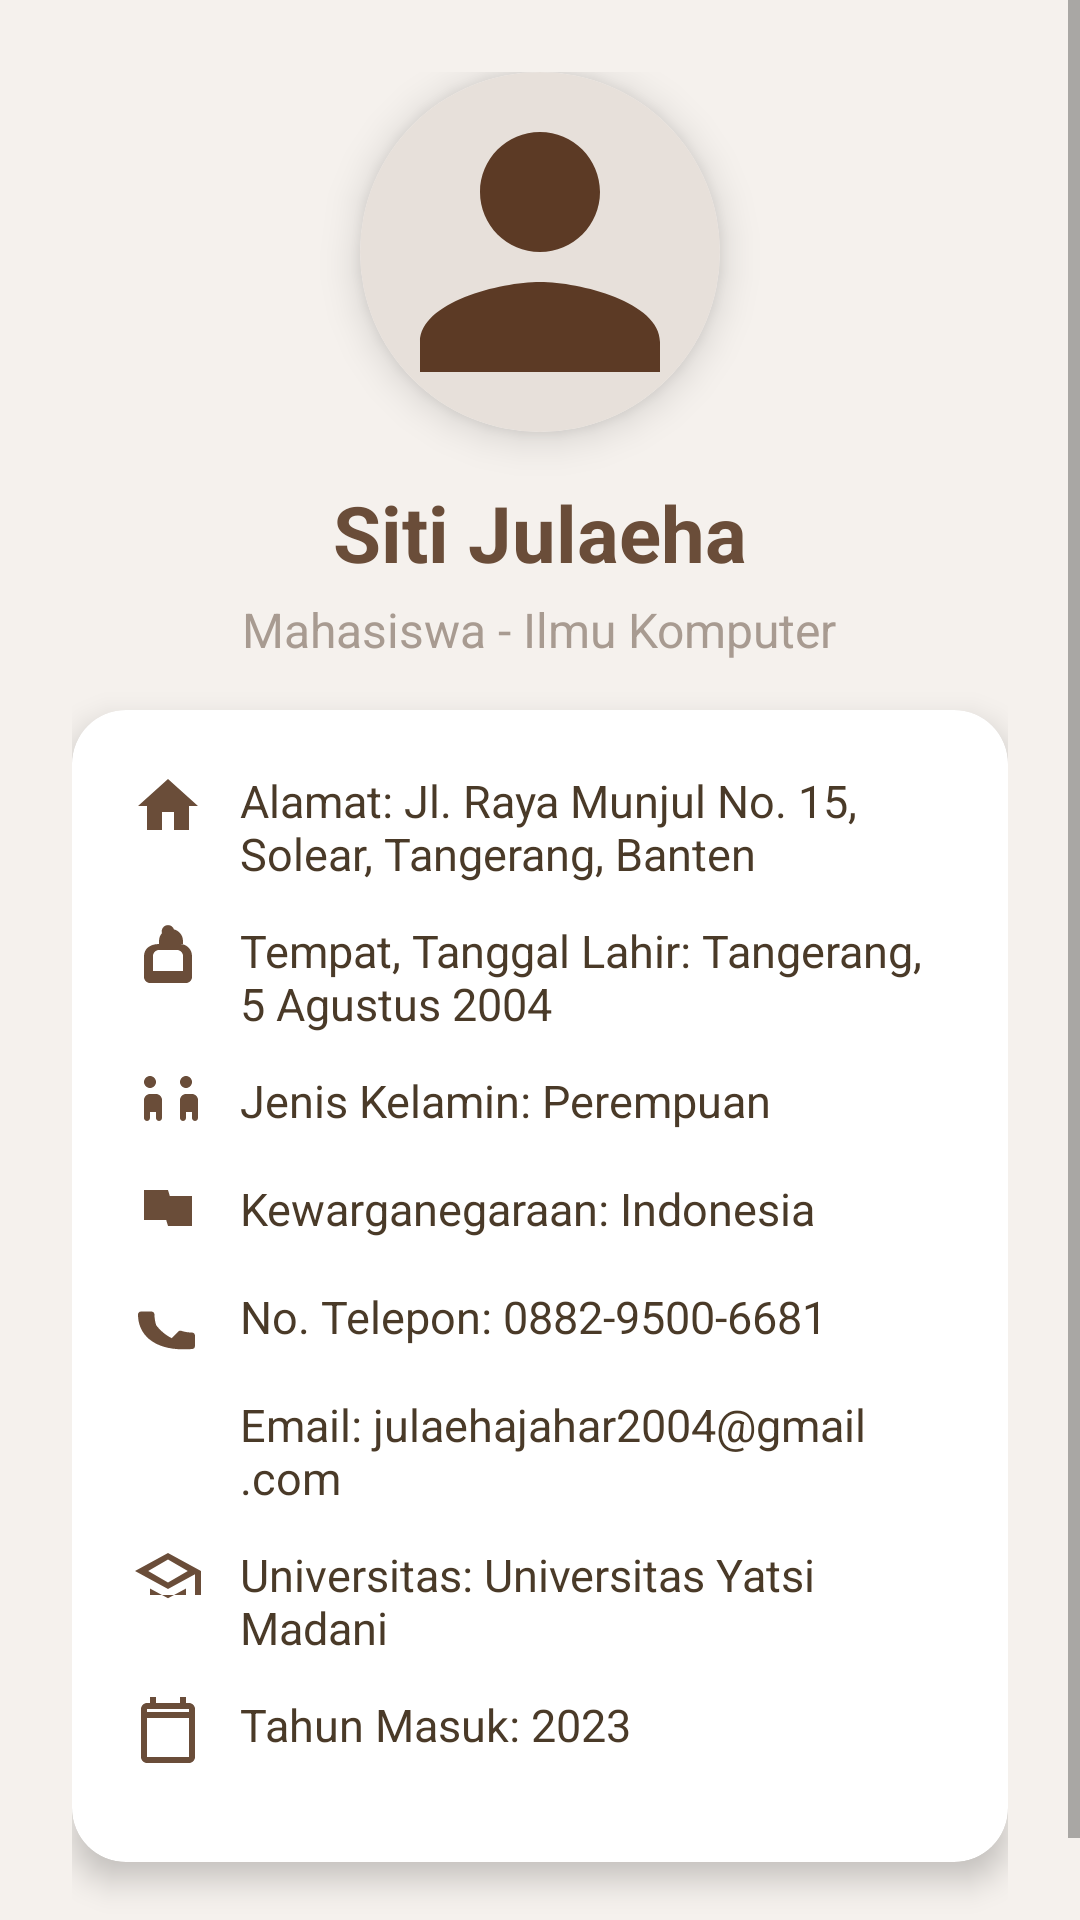

Screen size 1080px×1920px. Icon name, then its box in pixels as [x1,y1,x2,y2]:
biodata: [360,72,720,432]
cake: [144,925,192,983]
event: [141,1697,195,1763]
flag: [144,1190,192,1226]
home: [138,779,198,830]
phone: [138,1311,195,1350]
school: [135,1553,201,1598]
